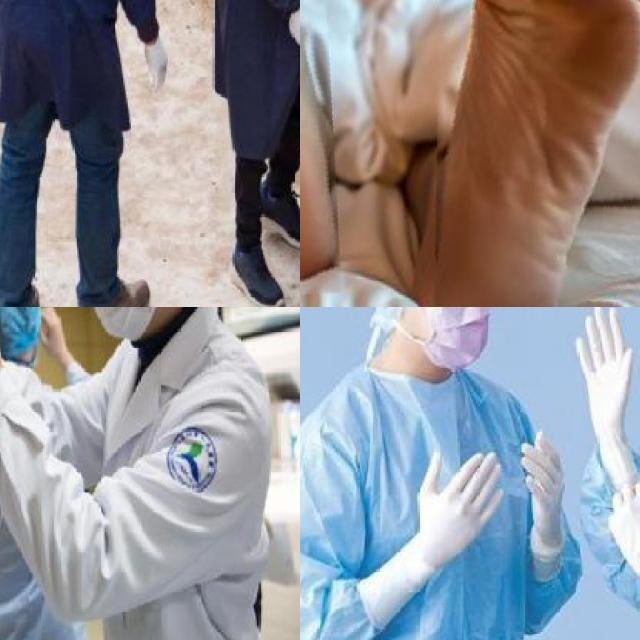Barefoots: (423, 0, 640, 307)
face_mask: (399, 307, 505, 360), (80, 307, 187, 349)
hand_glove: (413, 446, 502, 562), (571, 307, 634, 441), (519, 428, 564, 537), (602, 474, 640, 572), (142, 39, 171, 93), (287, 8, 300, 52)
hand_noglove: (36, 307, 61, 360)
person: (0, 307, 290, 640), (300, 307, 585, 640), (0, 0, 169, 307), (562, 307, 640, 640), (221, 0, 300, 297)
shoes: (247, 172, 300, 251), (225, 244, 288, 307)
